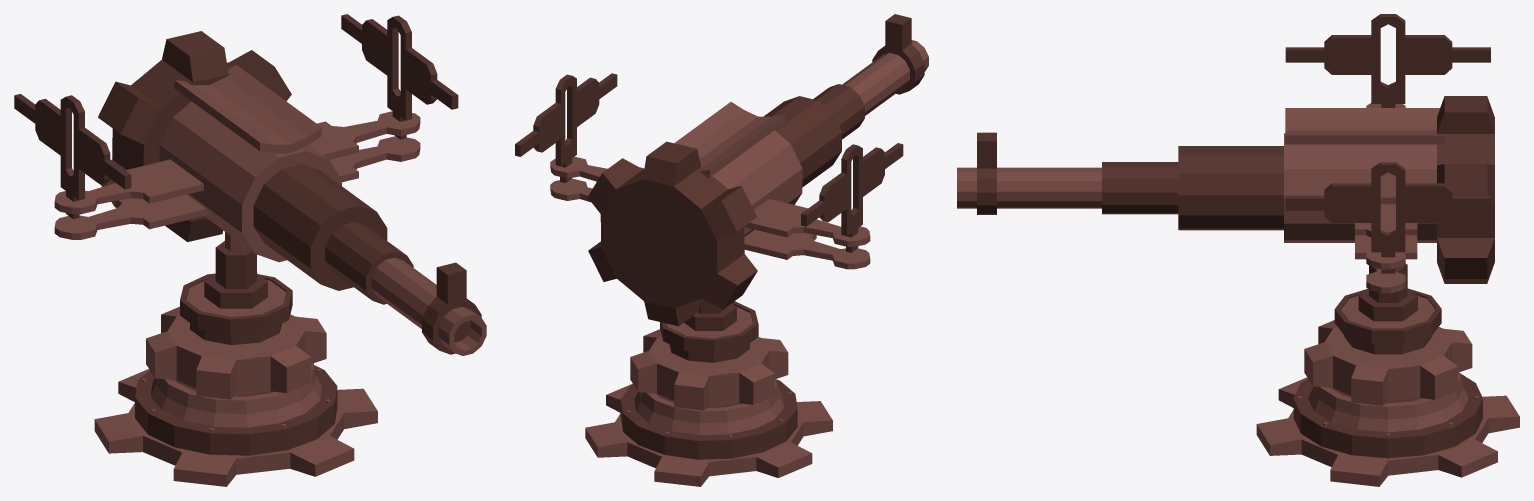
File: gun_3.glb
3 renders of one model, left to right at view 1: azimuth 30°, elevation 25°; view 2: azimuth 150°, elevation 25°; view 3: azimuth 270°, elevation 25°, orthographic. The views are drawn at different scales.
Parts seen in each view (by area): view 1: _MeshInstance3D_170, _MeshInstance3D_169, _MeshInstance3D_171; view 2: _MeshInstance3D_170, _MeshInstance3D_169, _MeshInstance3D_171; view 3: _MeshInstance3D_170, _MeshInstance3D_169, _MeshInstance3D_171.
Boxes of the visible parts, bbox=[...] form: _MeshInstance3D_170: bbox=[14, 14, 486, 355]; _MeshInstance3D_169: bbox=[94, 306, 377, 486]; _MeshInstance3D_171: bbox=[180, 232, 292, 344]; _MeshInstance3D_170: bbox=[515, 14, 928, 326]; _MeshInstance3D_169: bbox=[585, 329, 832, 486]; _MeshInstance3D_171: bbox=[660, 298, 758, 362]; _MeshInstance3D_170: bbox=[957, 14, 1494, 293]; _MeshInstance3D_169: bbox=[1256, 320, 1519, 486]; _MeshInstance3D_171: bbox=[1334, 263, 1441, 354].
Bounding box in the file's own units: 2.02 × 1.99 × 2.94.
